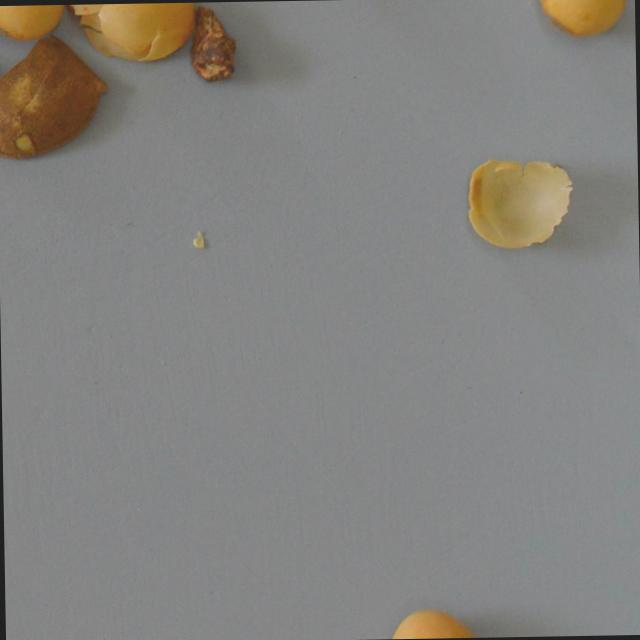cuerpos_extranos: (0, 26, 118, 166), (460, 154, 579, 258), (60, 2, 199, 65), (184, 1, 243, 88), (530, 0, 635, 41), (380, 604, 490, 639), (0, 4, 66, 48)
